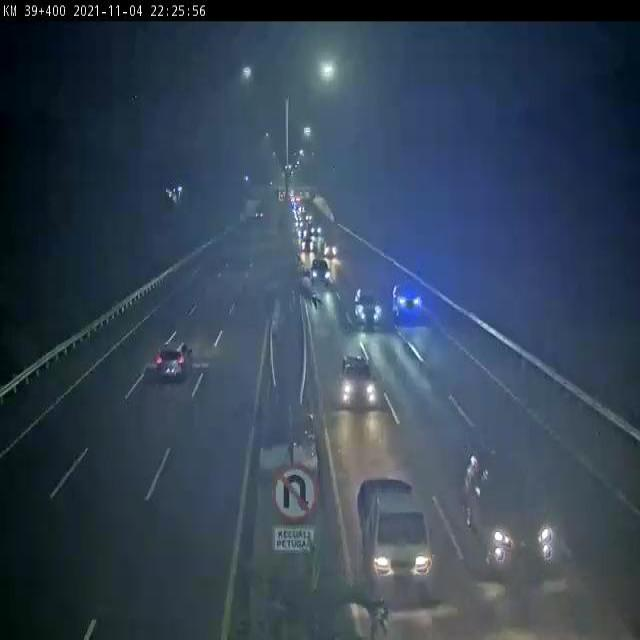car: (453, 447, 572, 576), (331, 343, 379, 416), (150, 324, 196, 392), (351, 281, 385, 340), (392, 276, 427, 328), (305, 255, 336, 289)
truck-s-: (348, 473, 439, 603)
